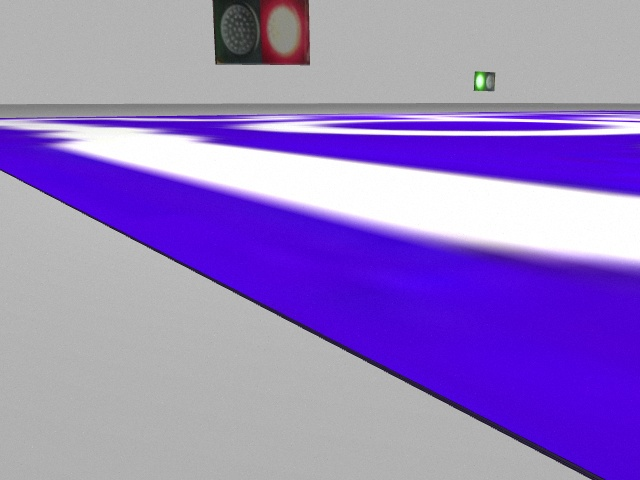red: (262, 1, 312, 66)
